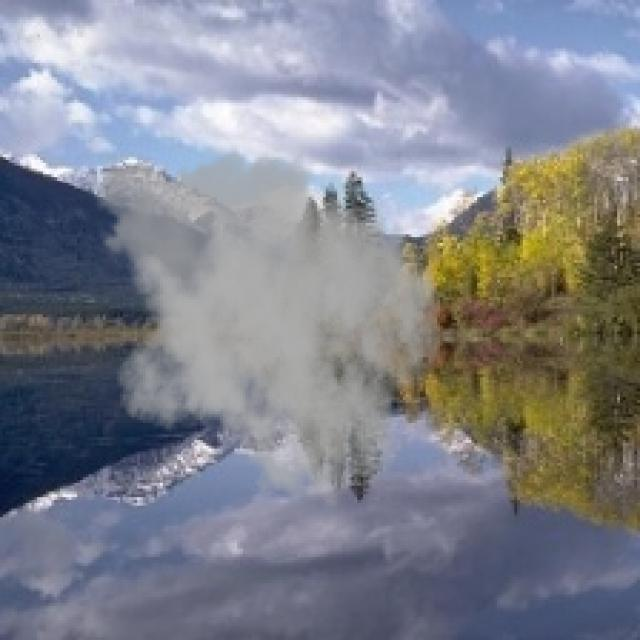Smoke: (80, 139, 443, 512)
